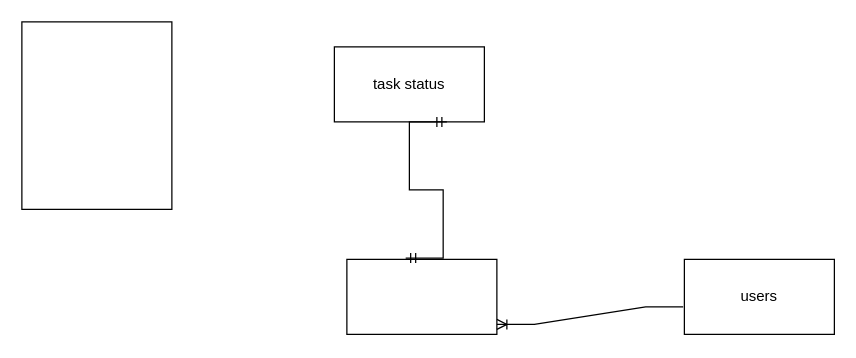
Image size: 856x358. Some labels were removed from this diagram. The shapes that lost their labels are listed below. From the top down, each one's centre as x and y in pixels, then its label:
At (96,115): "list items status of list item users".
At (421,296): "List items".
